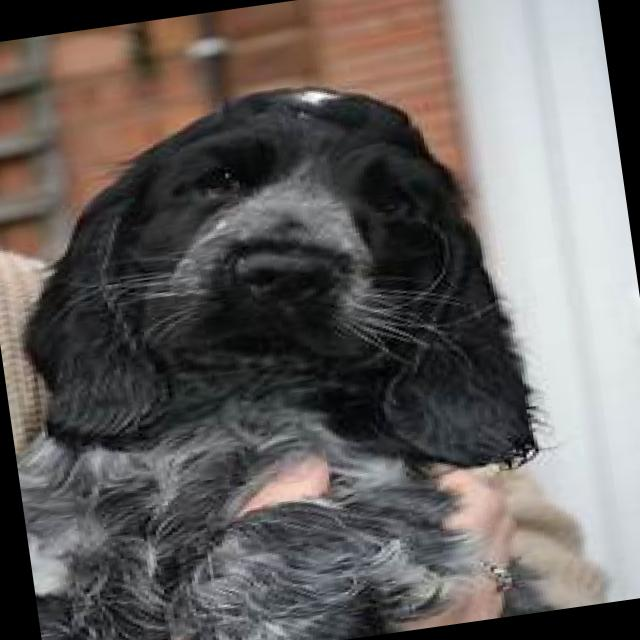dog: (0, 49, 608, 640)
